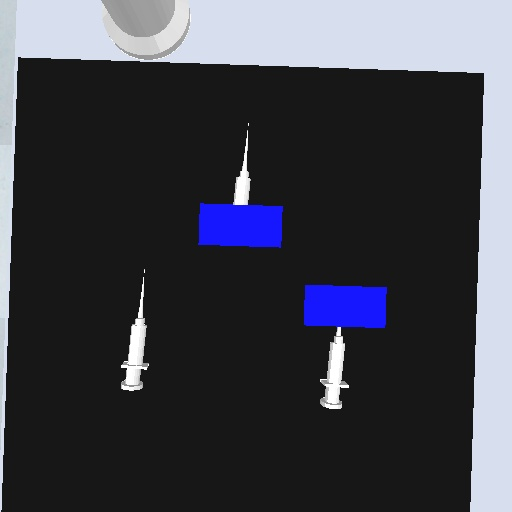jeringuilla: (118, 267, 152, 393), (317, 326, 352, 412), (230, 120, 253, 207)
